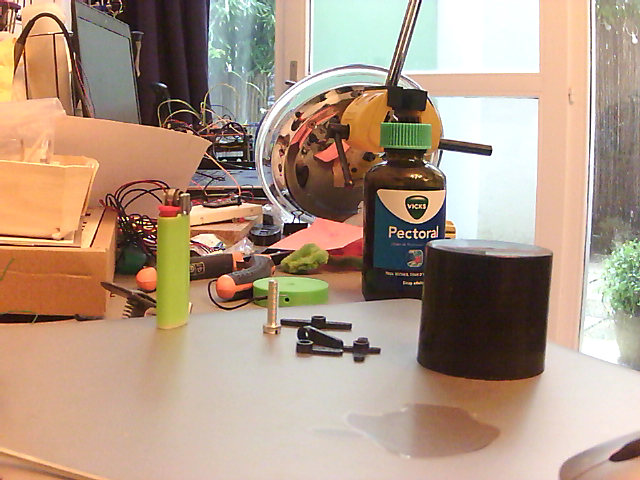bolt: (264, 276, 280, 335)
lighter: (155, 186, 193, 331)
